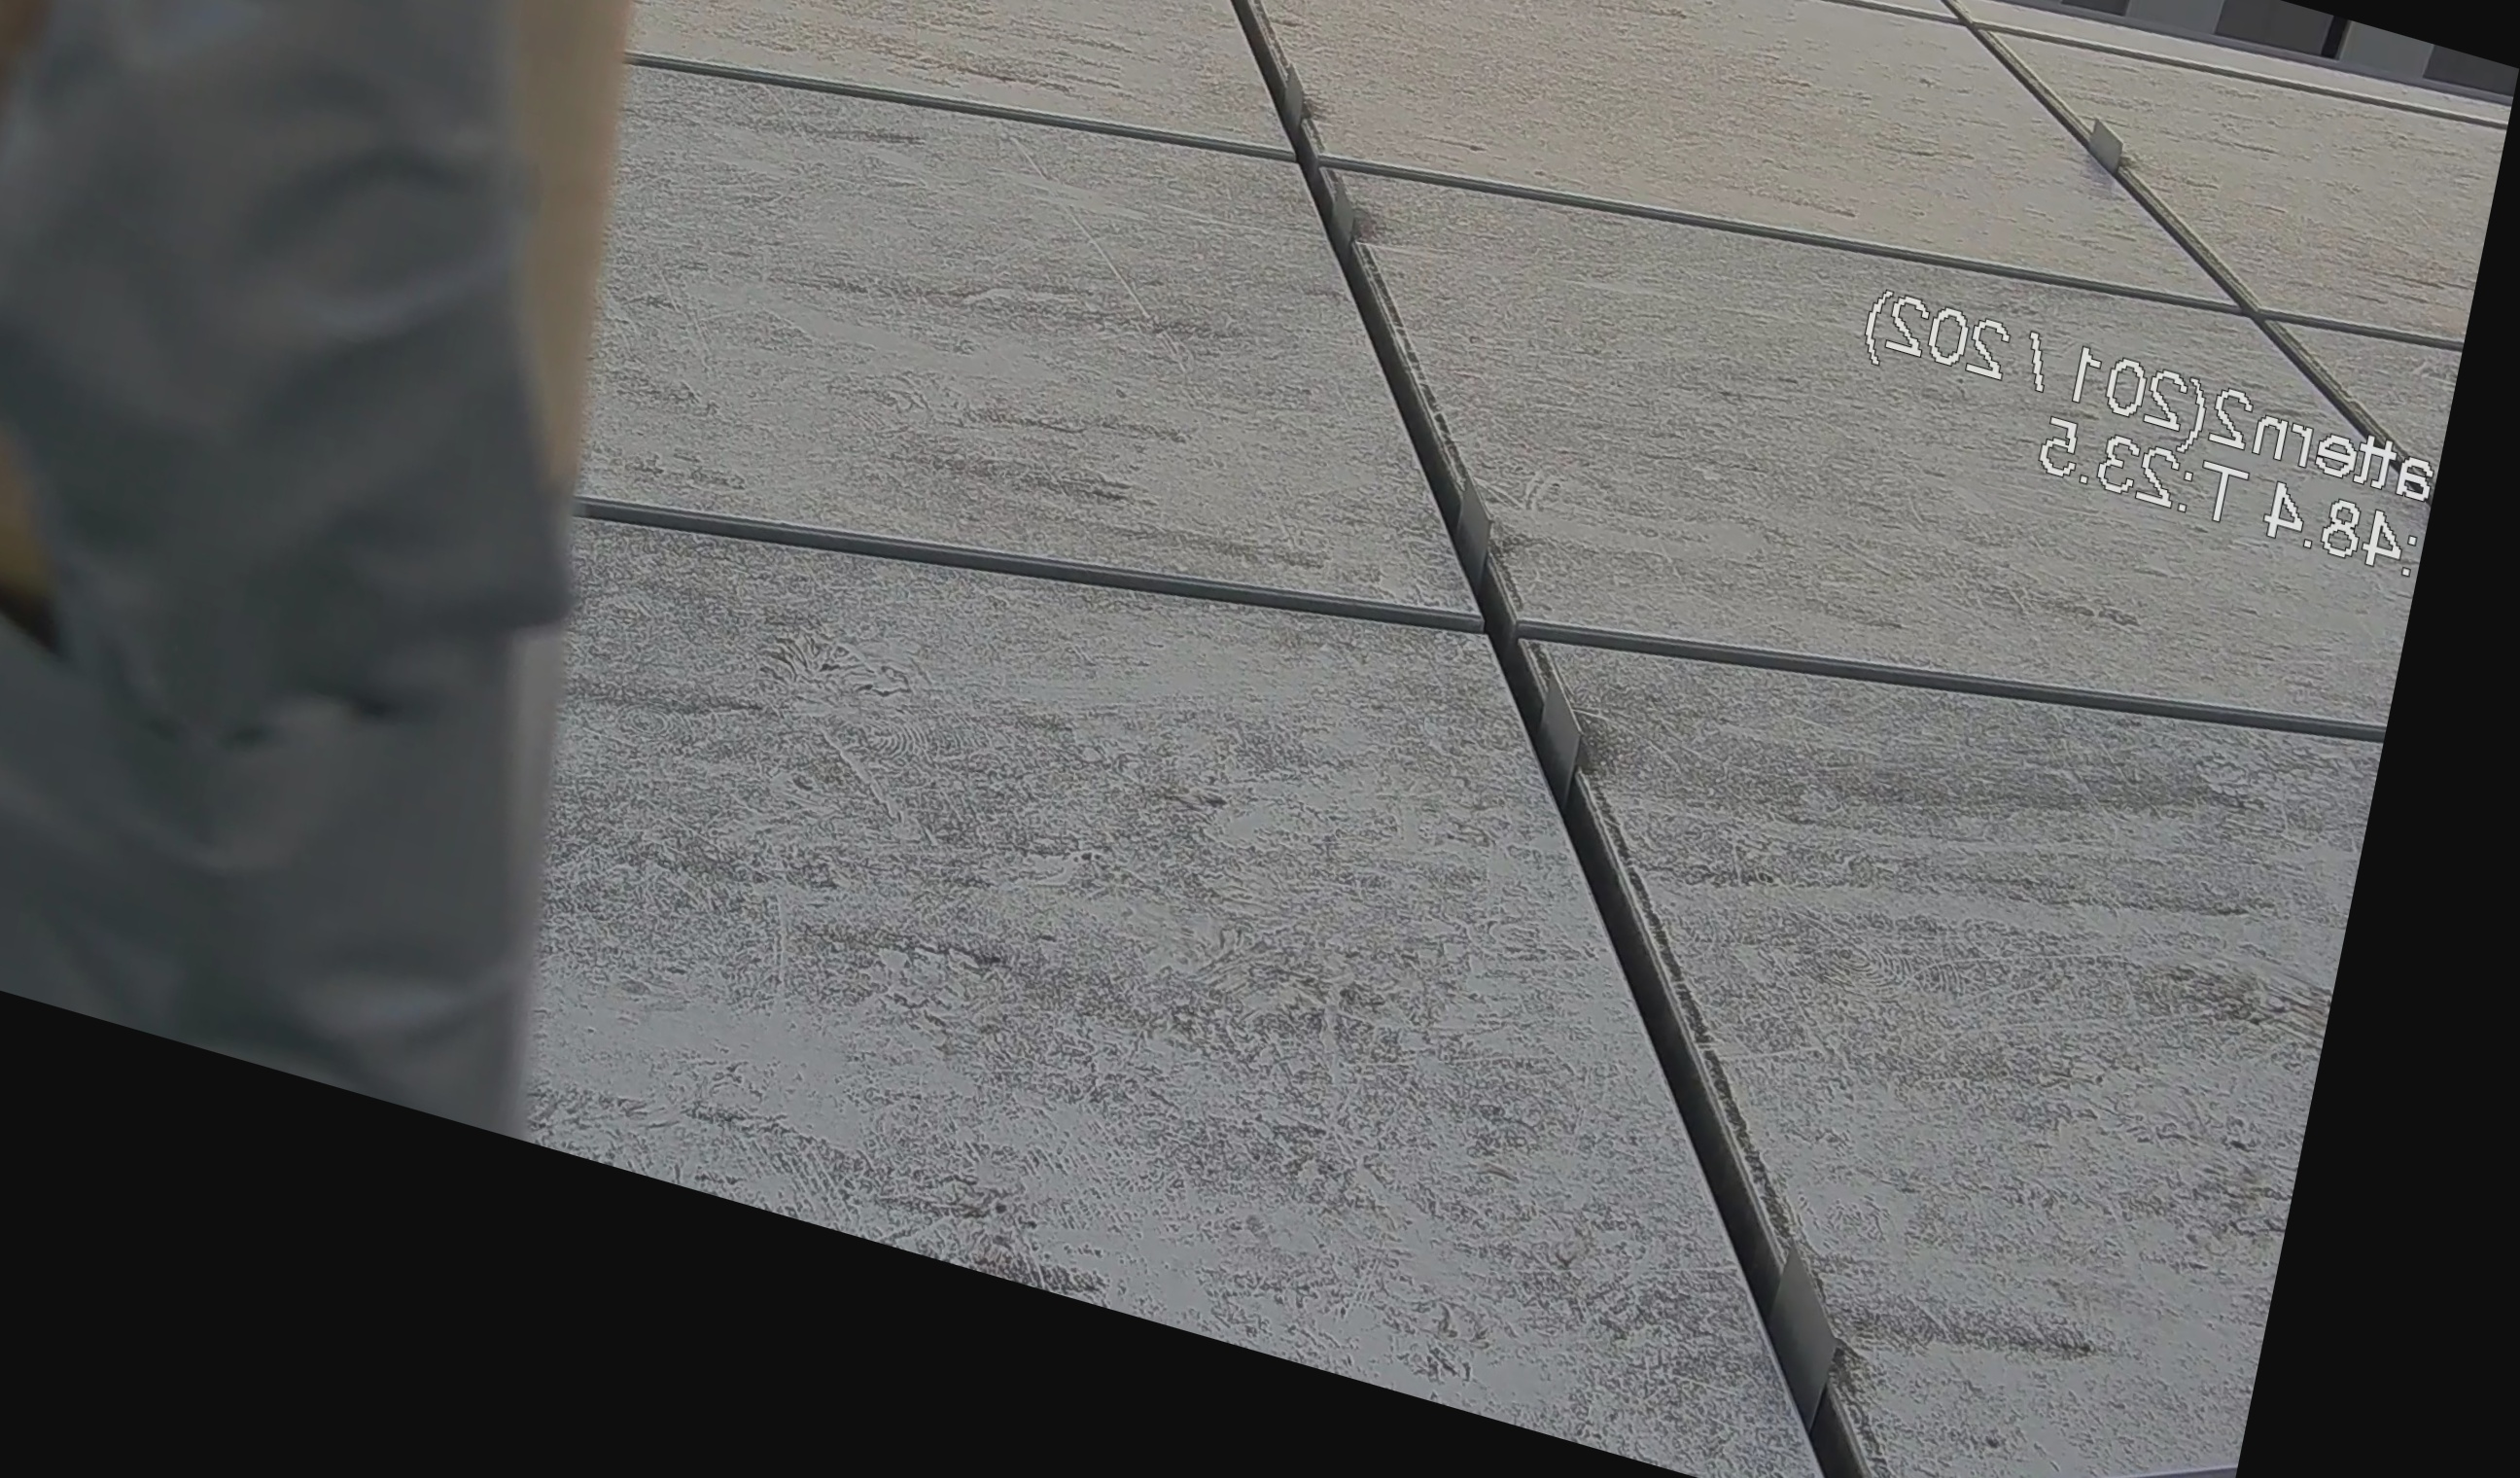Other: (0, 0, 851, 1209)
